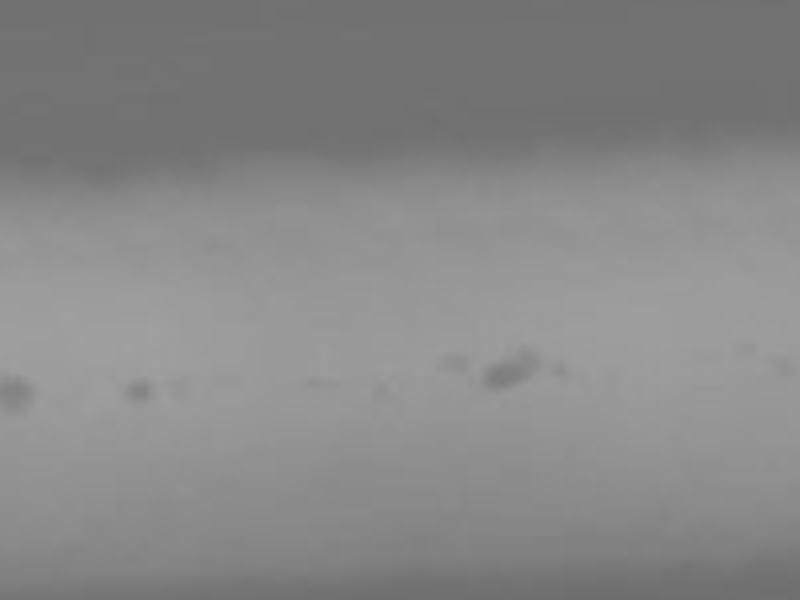defect: (484, 359, 526, 387), (1, 376, 30, 416), (437, 348, 467, 377), (123, 379, 149, 402), (169, 378, 191, 402), (770, 356, 794, 378), (302, 372, 337, 386), (371, 376, 391, 399), (520, 347, 537, 367), (552, 359, 567, 379), (735, 340, 754, 353)
